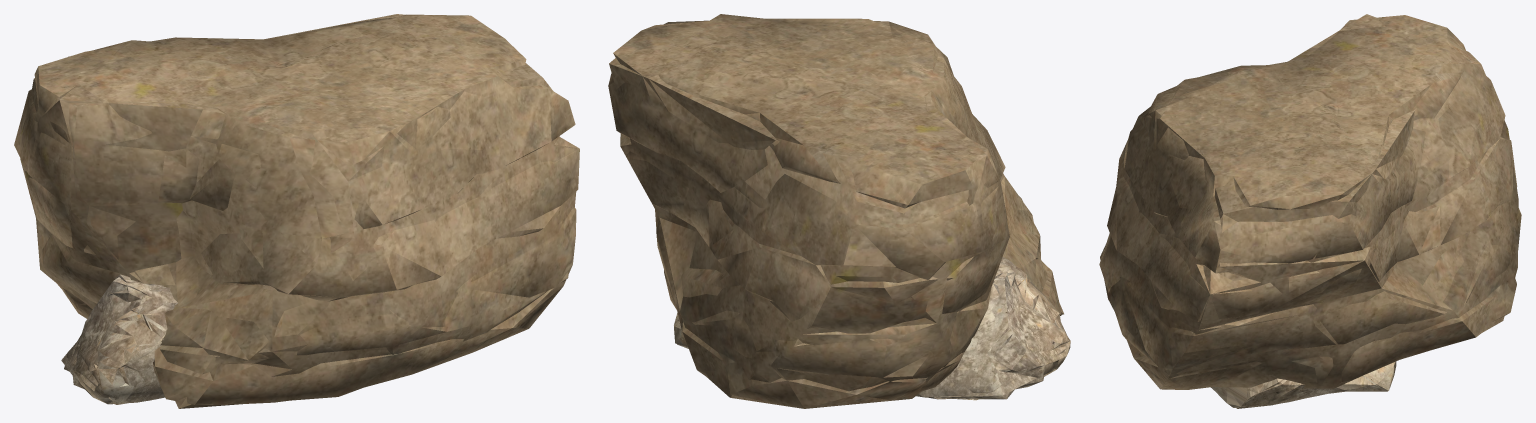
Rendered from nature-rocks.glb.
3 renders of one model, left to right at view 1: azimuth 30°, elevation 25°; view 2: azimuth 150°, elevation 25°; view 3: azimuth 270°, elevation 25°, orthographic. The views are drawn at different scales.
Visible parts, largest first — view 1: cliff_chunk_hi, cliff_chunk_lite, boulder_flat_hi, boulder_flat_lite; view 2: cliff_chunk_hi, cliff_chunk_lite, boulder_flat_hi, boulder_flat_lite; view 3: cliff_chunk_hi, cliff_chunk_lite, boulder_flat_hi, boulder_flat_lite.
Boxes of the visible parts, box(x1,y1,x2,y2) form: cliff_chunk_hi: box(14, 14, 579, 404); cliff_chunk_lite: box(20, 14, 579, 408); boulder_flat_hi: box(64, 274, 177, 404); boulder_flat_lite: box(61, 277, 166, 404); cliff_chunk_hi: box(608, 14, 1061, 408); cliff_chunk_lite: box(609, 18, 1063, 408); boulder_flat_hi: box(674, 257, 1070, 400); boulder_flat_lite: box(674, 261, 1067, 399); cliff_chunk_hi: box(1100, 15, 1521, 389); cliff_chunk_lite: box(1099, 14, 1518, 388); boulder_flat_hi: box(1211, 361, 1396, 407); boulder_flat_lite: box(1211, 361, 1395, 408).
Size of the model in its own units: 6.34 by 3.74 by 5.47.
1 material, 1 textured.
